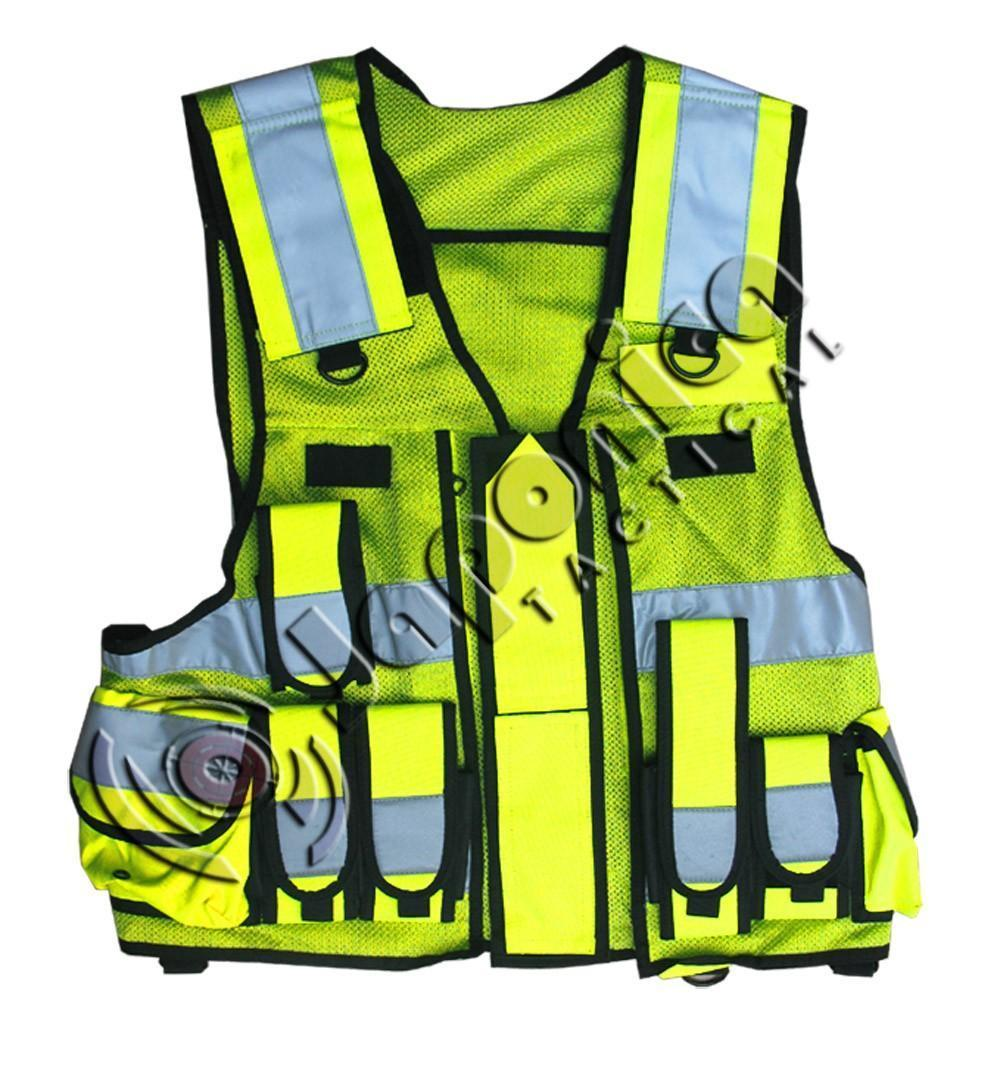vest: (69, 48, 922, 990)
